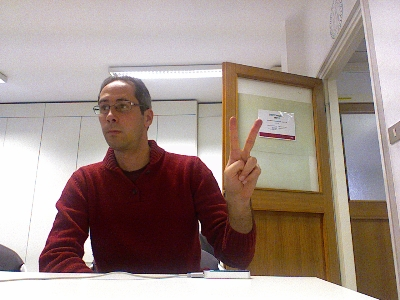剪刀: (222, 116, 262, 201)
